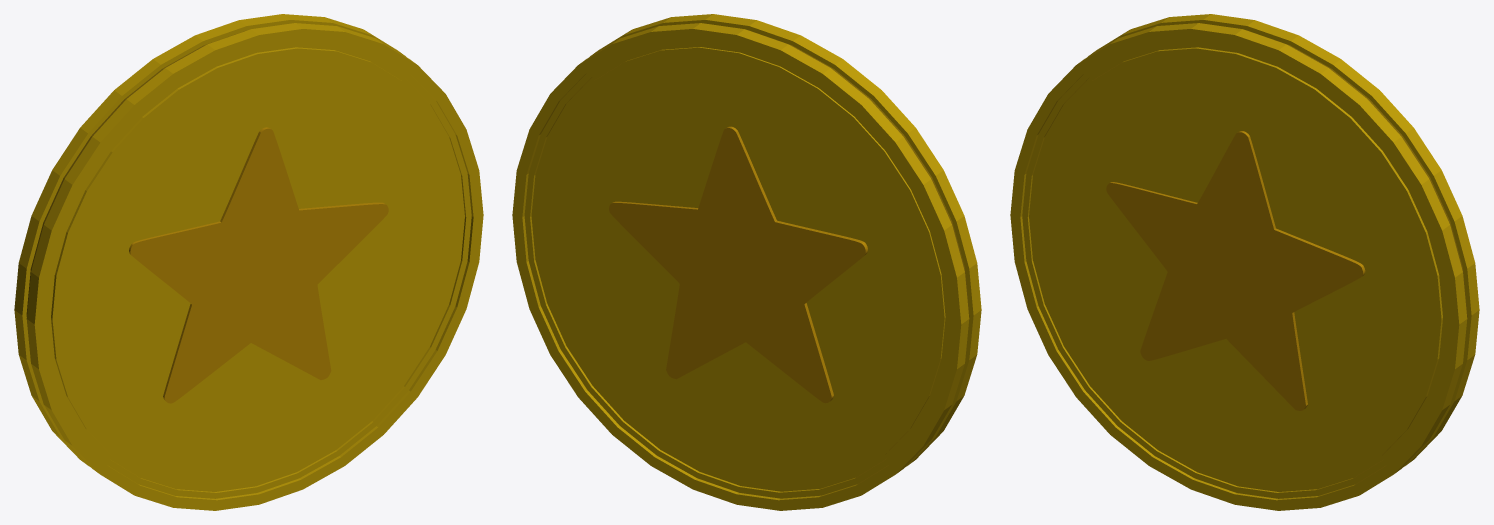
The model's file is coin.fbx.
The picture shows the model from 3 angles, left to right: view 1: azimuth 30°, elevation 25°; view 2: azimuth 150°, elevation 25°; view 3: azimuth 330°, elevation 25°; orthographic projection.
Parts seen in each view (by area): view 1: Cylinder, Curve, Cylinder.001; view 2: Cylinder, Curve.001, Cylinder.001; view 3: Cylinder, Curve, Cylinder.001.
Boxes of the visible parts, left/top/right/bottom form: Cylinder: left=14, top=14, right=483, bottom=510; Curve: left=129, top=127, right=388, bottom=403; Cylinder.001: left=26, top=30, right=246, bottom=316; Cylinder: left=512, top=14, right=981, bottom=510; Curve.001: left=609, top=126, right=867, bottom=403; Cylinder.001: left=749, top=30, right=969, bottom=316; Cylinder: left=1010, top=14, right=1479, bottom=510; Curve: left=1106, top=131, right=1365, bottom=410; Cylinder.001: left=1247, top=30, right=1467, bottom=316.
Bounding box in the file's own units: 387 × 387 × 31.28.
